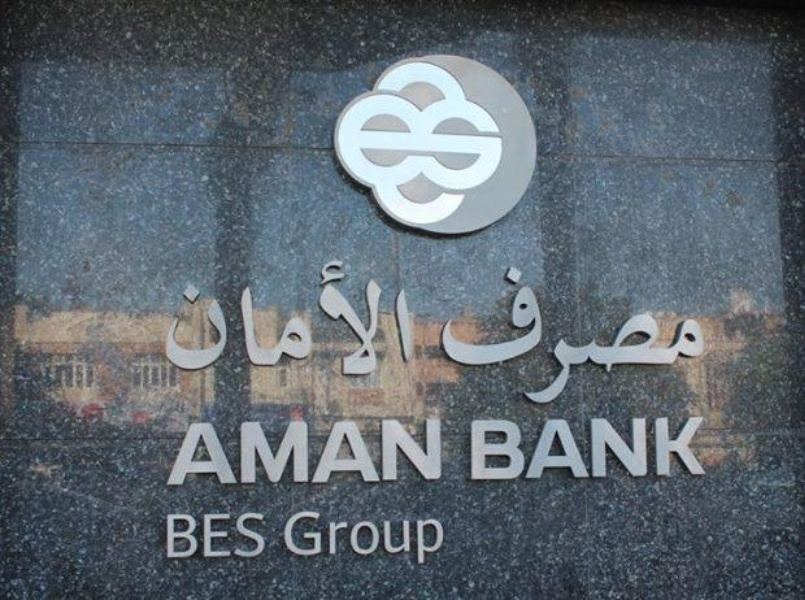text: (449, 260, 464, 407), (465, 260, 480, 407), (481, 260, 496, 407), (497, 260, 512, 407), (513, 260, 528, 407), (529, 260, 544, 407), (545, 260, 560, 407), (561, 260, 576, 407), (577, 260, 592, 407), (593, 260, 608, 407), (609, 260, 624, 407), (625, 260, 640, 407), (641, 260, 656, 407), (657, 260, 672, 407), (673, 260, 688, 407), (689, 260, 704, 407), (161, 254, 176, 380), (177, 254, 192, 380), (193, 254, 208, 380), (209, 254, 224, 380), (225, 254, 240, 380), (241, 254, 256, 380), (257, 254, 272, 380), (273, 254, 288, 380), (289, 254, 304, 380), (305, 254, 320, 380), (321, 254, 336, 380), (337, 254, 352, 380), (353, 254, 368, 380), (369, 254, 384, 380), (385, 254, 400, 380), (401, 254, 416, 380), (177, 416, 192, 488), (193, 416, 208, 488), (209, 416, 224, 488), (225, 416, 240, 488), (241, 416, 256, 488), (257, 416, 272, 488), (273, 416, 288, 488), (289, 416, 304, 488), (305, 416, 320, 488), (321, 416, 336, 488), (337, 416, 352, 488), (353, 416, 368, 488), (369, 416, 384, 488), (385, 416, 400, 488), (401, 416, 416, 488), (417, 416, 432, 488), (441, 260, 448, 407), (481, 415, 496, 482), (497, 415, 512, 482), (513, 415, 528, 482), (529, 415, 544, 482), (545, 415, 560, 482), (561, 415, 576, 482), (577, 415, 592, 482), (593, 415, 608, 482), (609, 415, 624, 482), (625, 415, 640, 482), (641, 415, 656, 482), (657, 415, 672, 482), (673, 415, 688, 482), (689, 415, 704, 482), (163, 416, 176, 488), (433, 416, 446, 488), (705, 260, 711, 407), (467, 415, 480, 482), (289, 511, 304, 567), (305, 511, 320, 567), (321, 511, 336, 567), (337, 511, 352, 567), (353, 511, 368, 567), (369, 511, 384, 567), (385, 511, 400, 567), (401, 511, 416, 567), (417, 511, 432, 567), (433, 511, 448, 567), (177, 510, 192, 560), (193, 510, 208, 560), (209, 510, 224, 560), (225, 510, 240, 560), (241, 510, 256, 560), (165, 510, 176, 560), (257, 510, 268, 560), (417, 254, 420, 380), (282, 511, 288, 567), (705, 415, 707, 482)
